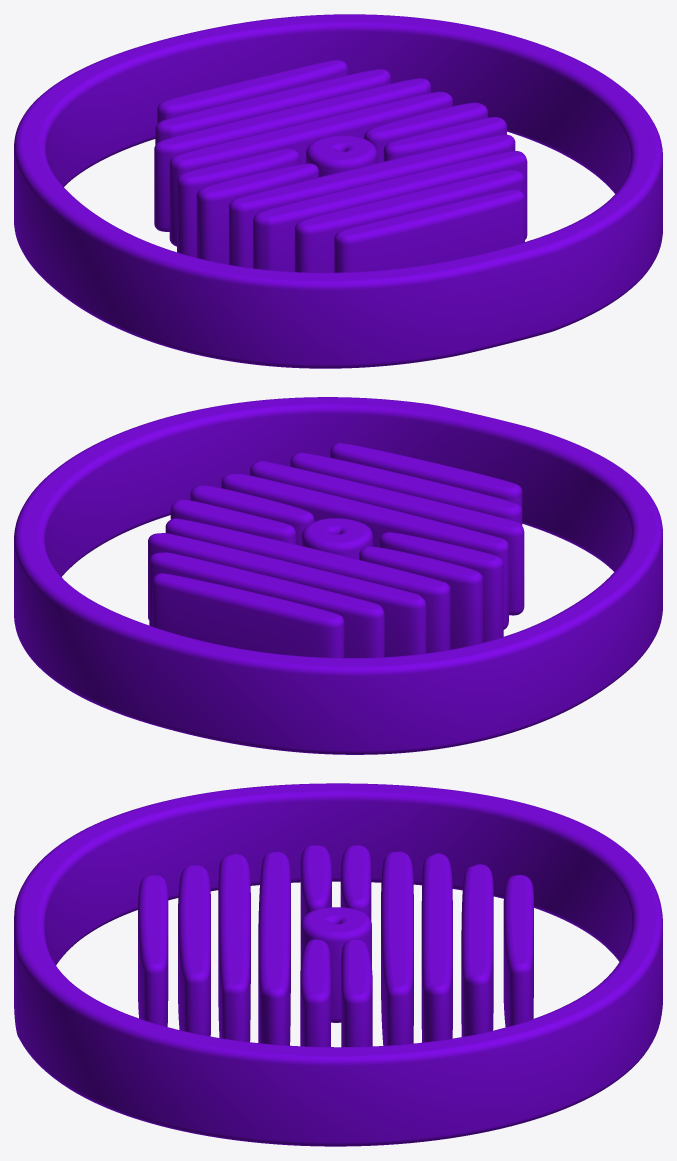
File: Bioversity 1.fbx
The picture shows the model from 3 angles, top to bottom: view 1: azimuth 30°, elevation 25°; view 2: azimuth 150°, elevation 25°; view 3: azimuth 270°, elevation 25°; orthographic projection. The views are drawn at different scales.
Parts seen in each view (by area): view 1: Bio_symbol, Biodiversidade; view 2: Bio_symbol, Biodiversidade; view 3: Bio_symbol, Biodiversidade.
Boxes of the visible parts, x1,y1,x2,y2 form: Bio_symbol: (14, 14, 662, 368); Biodiversidade: (154, 60, 527, 272); Bio_symbol: (14, 397, 662, 754); Biodiversidade: (148, 443, 524, 657); Bio_symbol: (14, 783, 662, 1146); Biodiversidade: (138, 845, 533, 1047).
Size of the model in its own units: 2266 by 347 by 2297.
